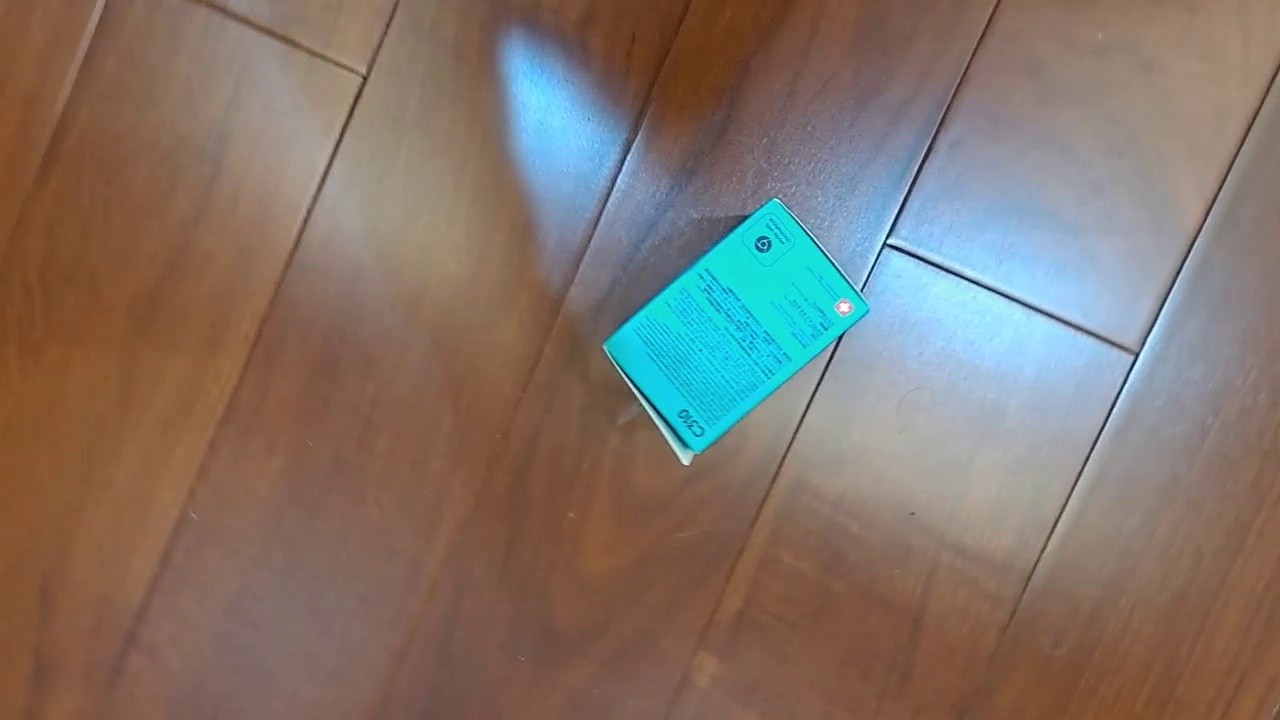webcam: (597, 195, 872, 469)
